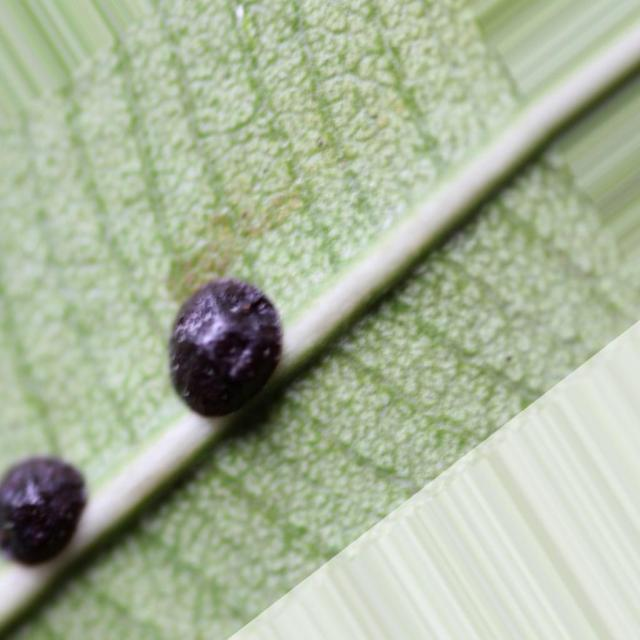BlackScale: (169, 278, 282, 418), (0, 456, 87, 565)
